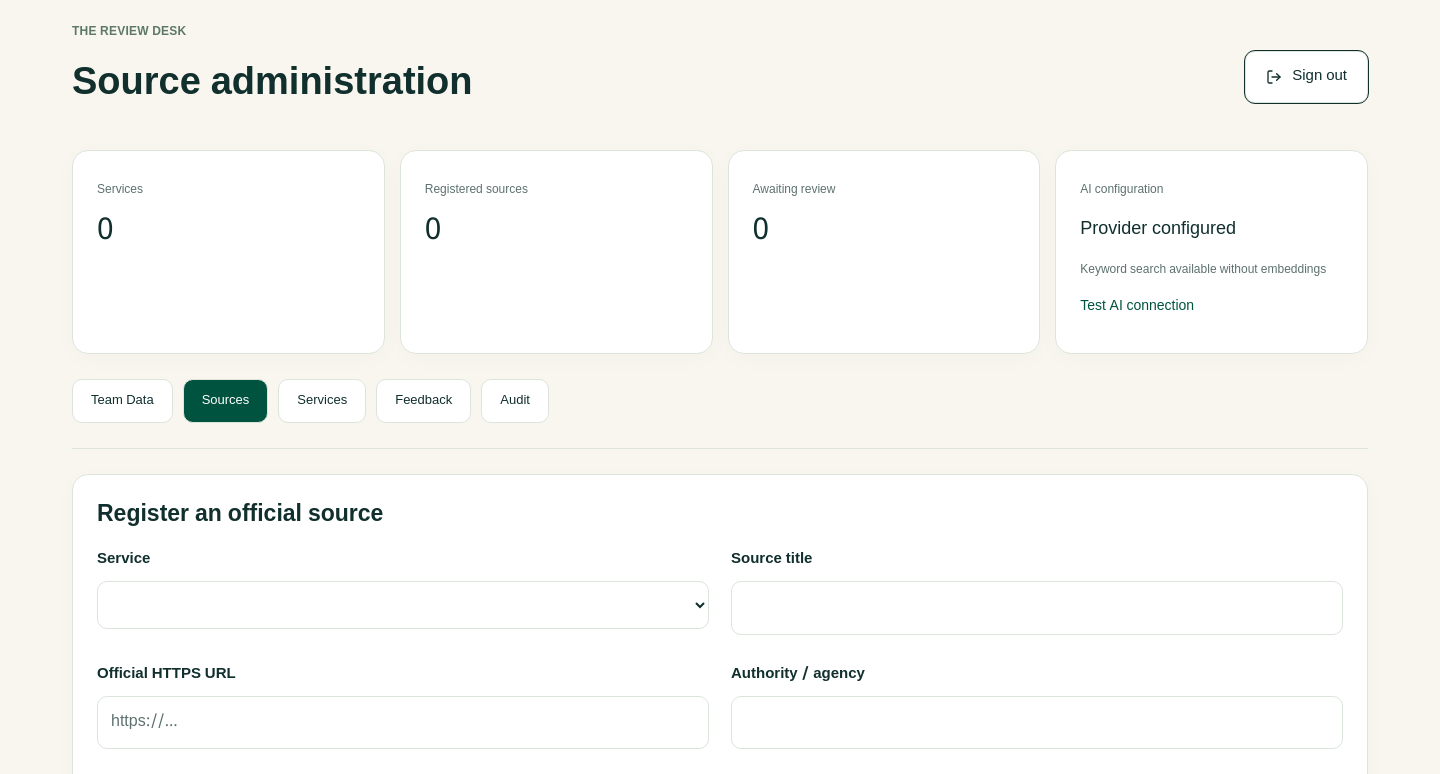
Test: tests the actual provider connection from the admin screen
Step 1. Click the button "Test AI connection" → (1137, 307), box 1080,285 -> 1194,329
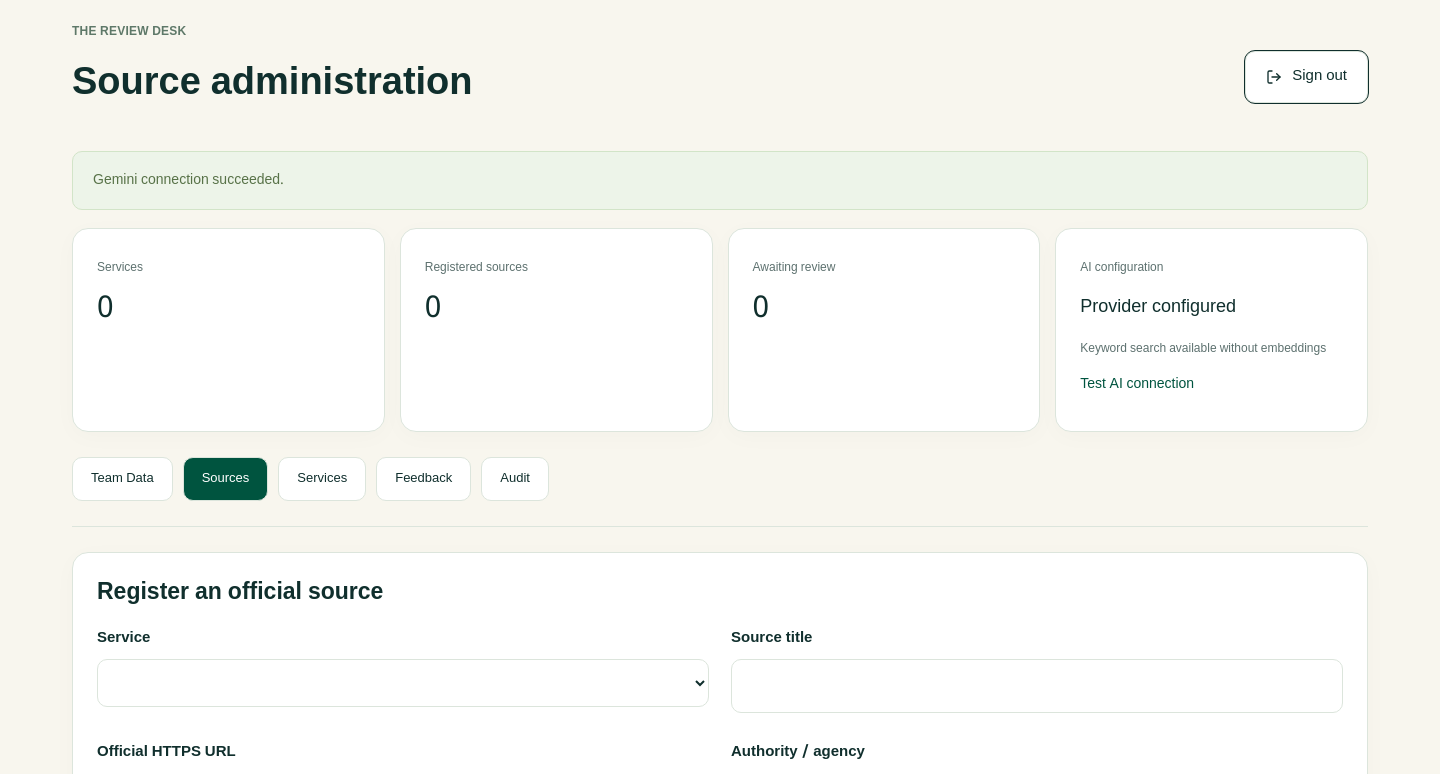
Expected: the text "Gemini connection succeeded." is shown, 72,151 -> 1368,210
